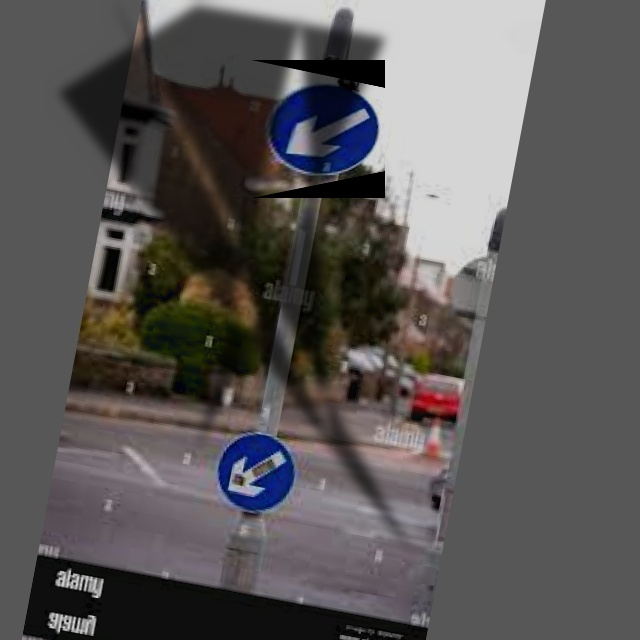Compulsory_Keep_Left: (251, 60, 385, 198)
